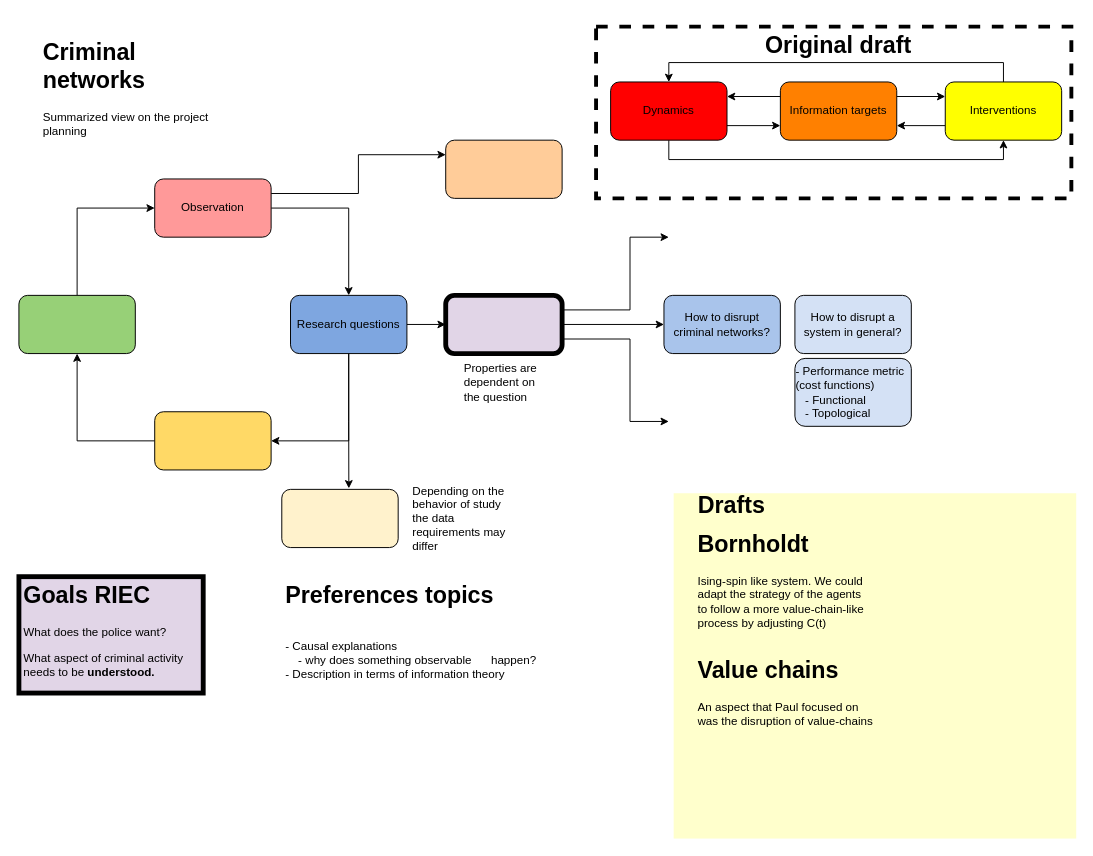
Image size: 1093x856. Some labels were removed from this diagram. The shapes that lost their labels are listed below. From the top down, each one's centre as x and y in pixels, then its label:
pixel 503 168: The abundance of criminal activity
pixel 76 324: Testing
pixel 503 324: What do we try to understand in general ?
pixel 212 440: hypothesis
pixel 339 518: Data-requirements
